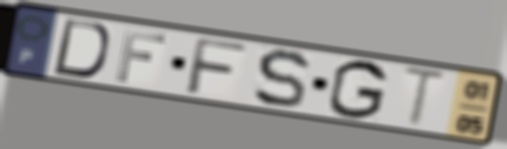D: (50, 16, 112, 81)
F: (182, 35, 251, 98), (113, 27, 170, 85)
G: (325, 58, 390, 122)
S: (251, 47, 313, 111)
T: (399, 63, 451, 131)
